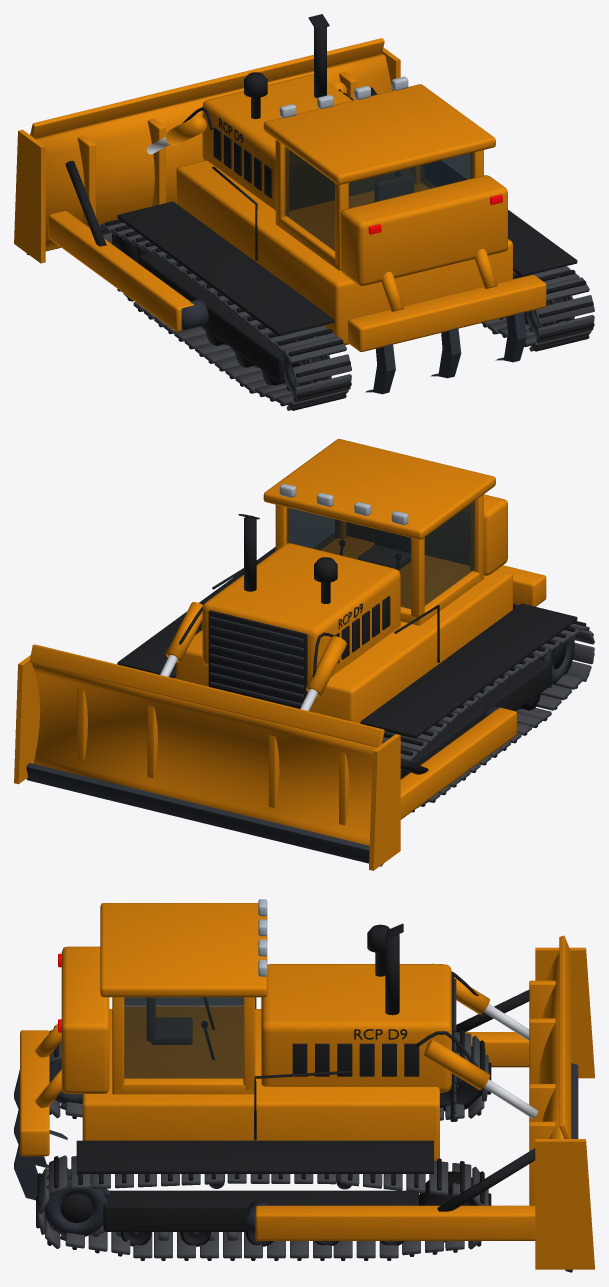
The model's file is Bulldozer.fbx.
3 views of the same model, one above another, from view 1: azimuth 30°, elevation 25°; view 2: azimuth 150°, elevation 25°; view 3: azimuth 270°, elevation 25° (orthographic). The views are drawn at different scales.
Visible parts, largest first — view 1: Bulldozer_Body, Bulldozer_Trim2, Bulldozer_Trim, Bulldozer_Glass, Bulldozer_Trim3, Bulldozer_Lights; view 2: Bulldozer_Body, Bulldozer_Trim2, Bulldozer_Glass, Bulldozer_Trim, Bulldozer_Trim3, Bulldozer_Lights; view 3: Bulldozer_Body, Bulldozer_Trim2, Bulldozer_Trim, Bulldozer_Glass, Bulldozer_Trim3, Bulldozer_Lights.
Part boxes in pixels (x1,y1,x2,y2): Bulldozer_Body: [14, 38, 546, 382]; Bulldozer_Trim2: [26, 14, 577, 385]; Bulldozer_Trim: [99, 89, 594, 410]; Bulldozer_Glass: [284, 146, 472, 250]; Bulldozer_Trim3: [65, 82, 526, 394]; Bulldozer_Lights: [279, 76, 502, 234]; Bulldozer_Body: [14, 439, 551, 870]; Bulldozer_Trim2: [26, 514, 577, 866]; Bulldozer_Glass: [287, 501, 474, 608]; Bulldozer_Trim: [174, 573, 594, 812]; Bulldozer_Trim3: [160, 546, 518, 774]; Bulldozer_Lights: [279, 483, 408, 525]; Bulldozer_Body: [20, 903, 594, 1269]; Bulldozer_Trim2: [76, 923, 578, 1272]; Bulldozer_Trim: [36, 1025, 491, 1260]; Bulldozer_Glass: [124, 997, 243, 1078]; Bulldozer_Trim3: [14, 990, 538, 1211]; Bulldozer_Lights: [58, 899, 267, 1032].
Bounding box in the file's own units: 15.4 × 10.11 × 19.5.
